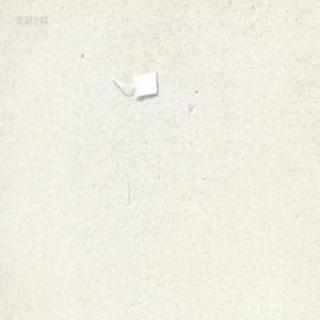LuggageTagtrack_idkeyframe: (106, 66, 160, 99)
